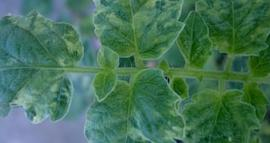Tomato leaf mosaic virus: (0, 9, 82, 125), (86, 69, 191, 143), (89, 0, 186, 61), (194, 0, 270, 66), (178, 83, 260, 143)
